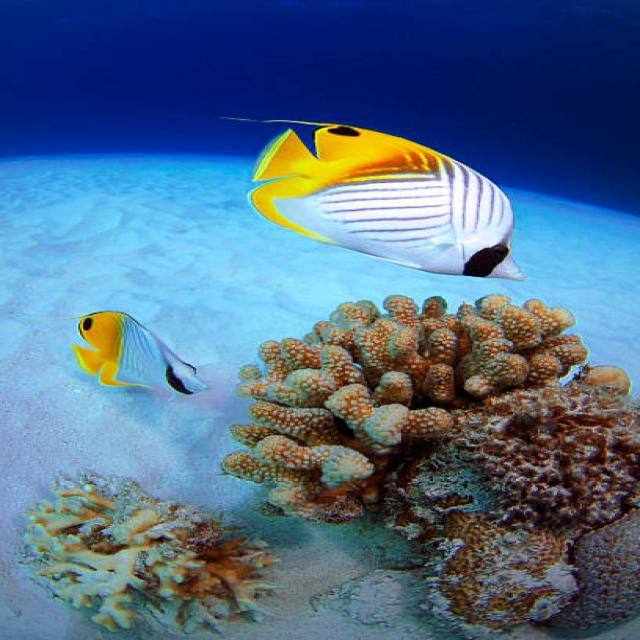ButterflyFish: (247, 123, 526, 296), (75, 312, 205, 399)
